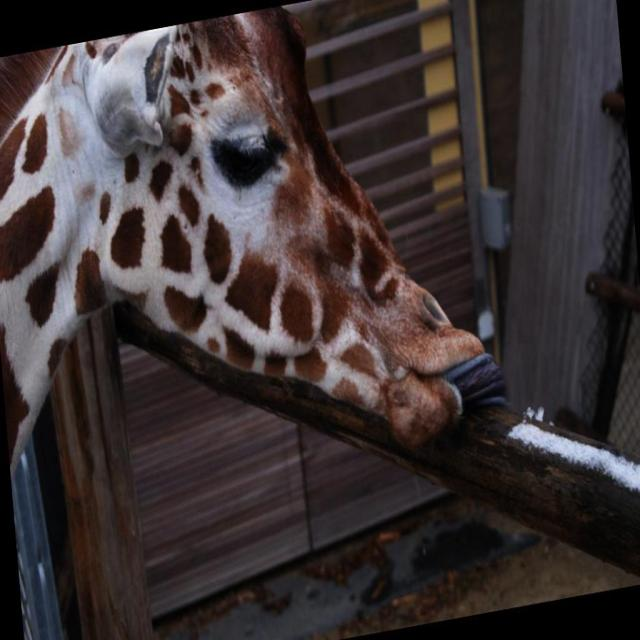Giraffe: (0, 0, 525, 486)
